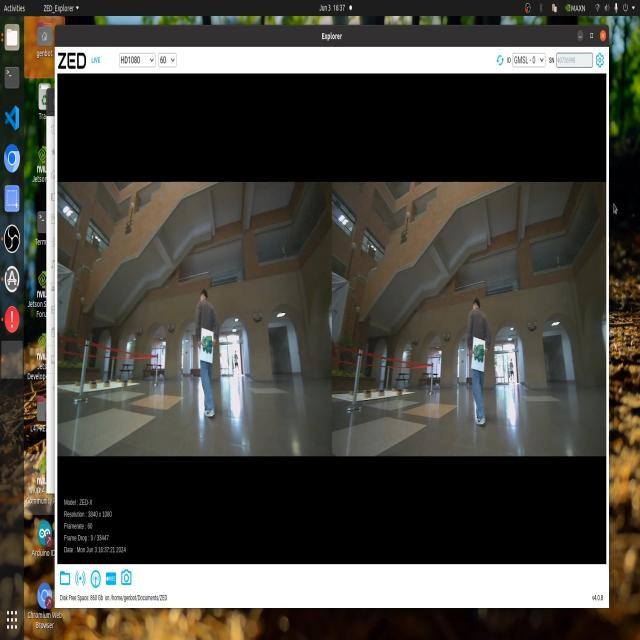green: (202, 331, 224, 360), (467, 346, 484, 372)
